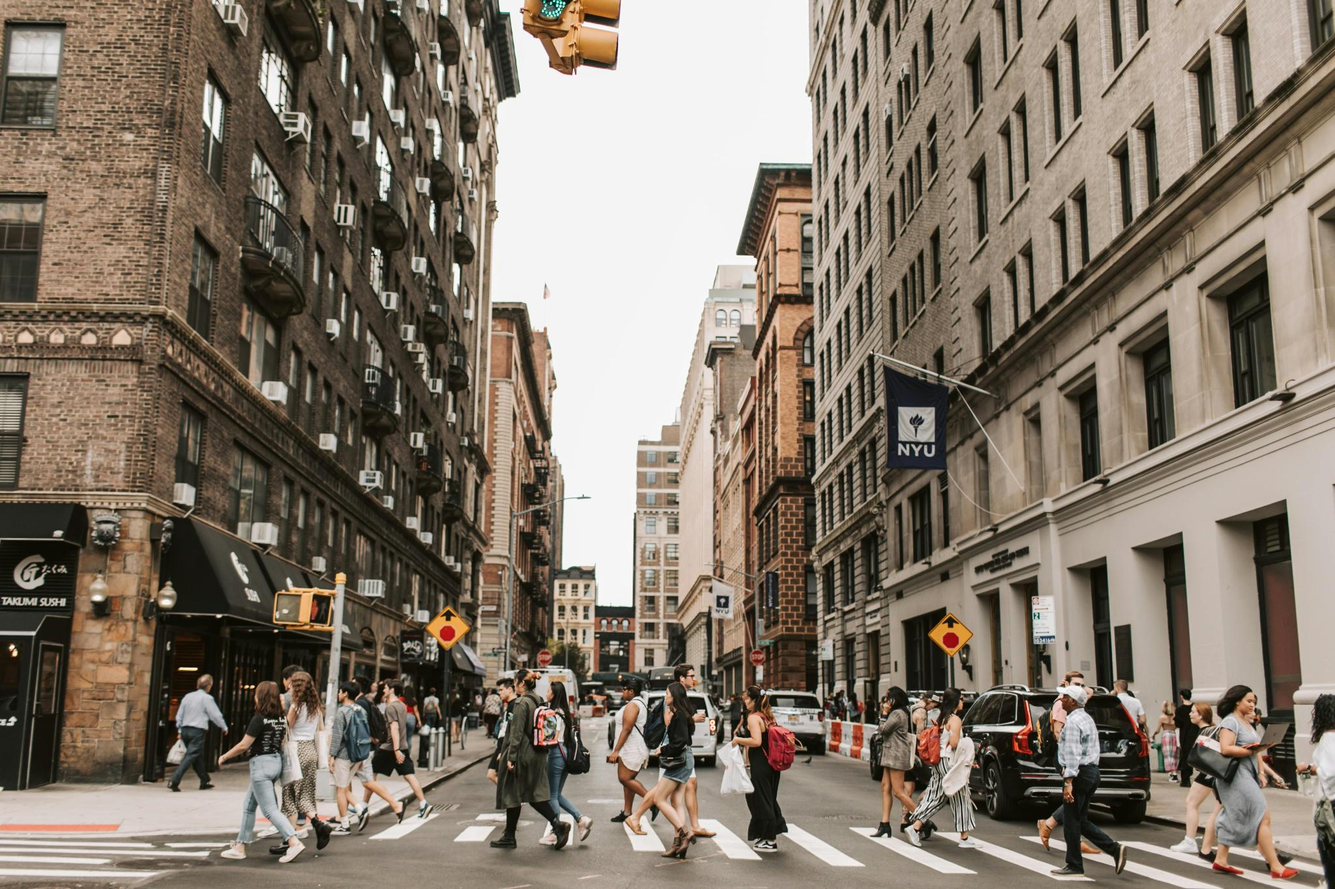car: (953, 688, 1148, 824), (743, 690, 826, 755)
pedestrian: (218, 668, 328, 867), (1186, 687, 1294, 881), (483, 679, 586, 856), (632, 669, 727, 859), (1041, 687, 1102, 846), (733, 698, 796, 851), (373, 686, 437, 822), (870, 692, 924, 839), (164, 678, 228, 796), (331, 688, 372, 834), (1307, 697, 1335, 888), (1114, 680, 1147, 748)
